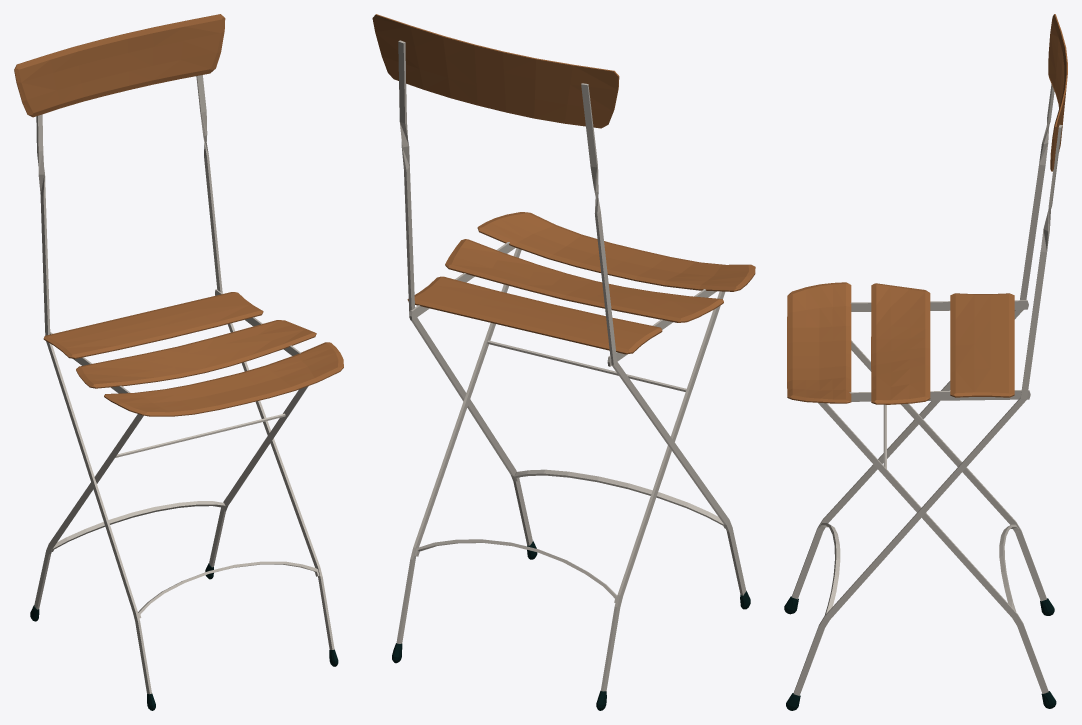
Rendered from chair-by-cmht-oculus-3ZfxLp41eSs.glb.
3 renders of one model, left to right at view 1: azimuth 30°, elevation 25°; view 2: azimuth 150°, elevation 25°; view 3: azimuth 270°, elevation 25°, orthographic. The views are drawn at different scales.
Visible parts, largest first — view 1: Node; view 2: Node; view 3: Node.
Boxes of the visible parts, box(x1,y1,x2,y2) form: Node: box(14, 14, 343, 710); Node: box(372, 14, 755, 710); Node: box(784, 14, 1067, 710).
Size of the model in its own units: 14.82 by 34.87 by 15.04.
